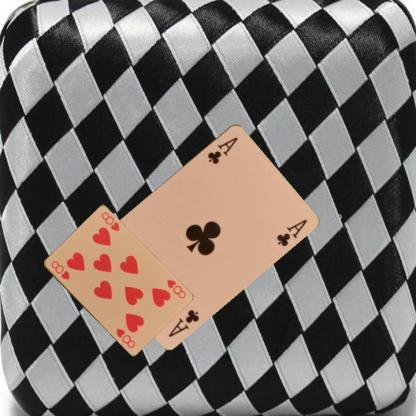8h: (164, 277, 188, 300), (48, 258, 70, 281)
Ac: (204, 134, 240, 166), (166, 306, 201, 338)
